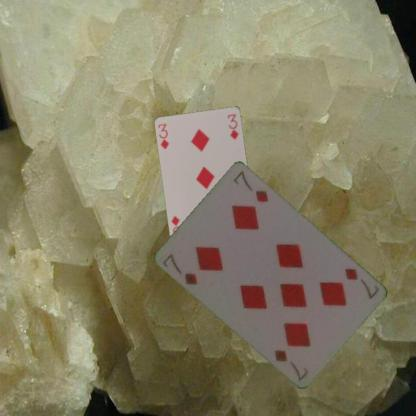3d: (156, 121, 170, 151)
7d: (342, 265, 380, 301), (161, 250, 199, 286)
